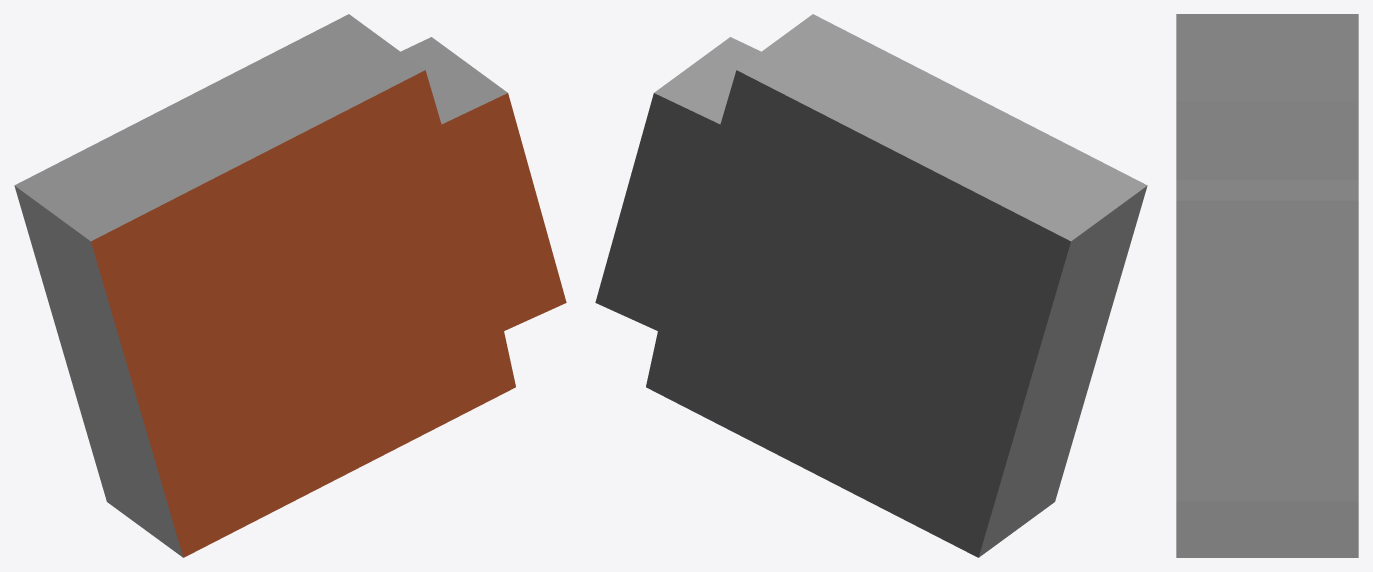
The model's file is construction_1024_assumed_A_Casa_h6m.obj.
3 views of the same model, side by side, from view 1: azimuth 30°, elevation 25°; view 2: azimuth 150°, elevation 25°; view 3: azimuth 270°, elevation 25° (orthographic). The views are drawn at different scales.
Parts seen in each view (by area): view 1: construction_1024_assumed_A_Casa; view 2: construction_1024_assumed_A_Casa; view 3: construction_1024_assumed_A_Casa.
Part boxes in pixels (<box>): construction_1024_assumed_A_Casa: <box>14,14,566,557</box>; construction_1024_assumed_A_Casa: <box>595,14,1147,557</box>; construction_1024_assumed_A_Casa: <box>1176,14,1358,557</box>.
Bounding box in the file's own units: 21.53 × 18.55 × 6.
